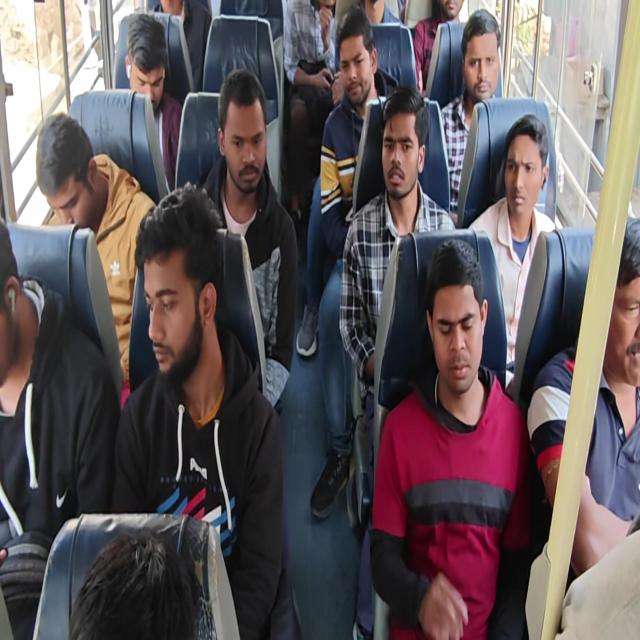person: (1, 2, 638, 638), (111, 182, 301, 638), (338, 83, 457, 638), (369, 237, 533, 638), (0, 218, 121, 638), (310, 7, 399, 519), (526, 214, 640, 578), (36, 112, 158, 400), (198, 68, 299, 412), (468, 113, 558, 382), (320, 7, 398, 258), (68, 527, 201, 639), (439, 8, 502, 220), (282, 0, 338, 221), (124, 12, 182, 191), (554, 528, 640, 640), (151, 0, 211, 91), (412, 0, 465, 94), (354, 0, 403, 25)
